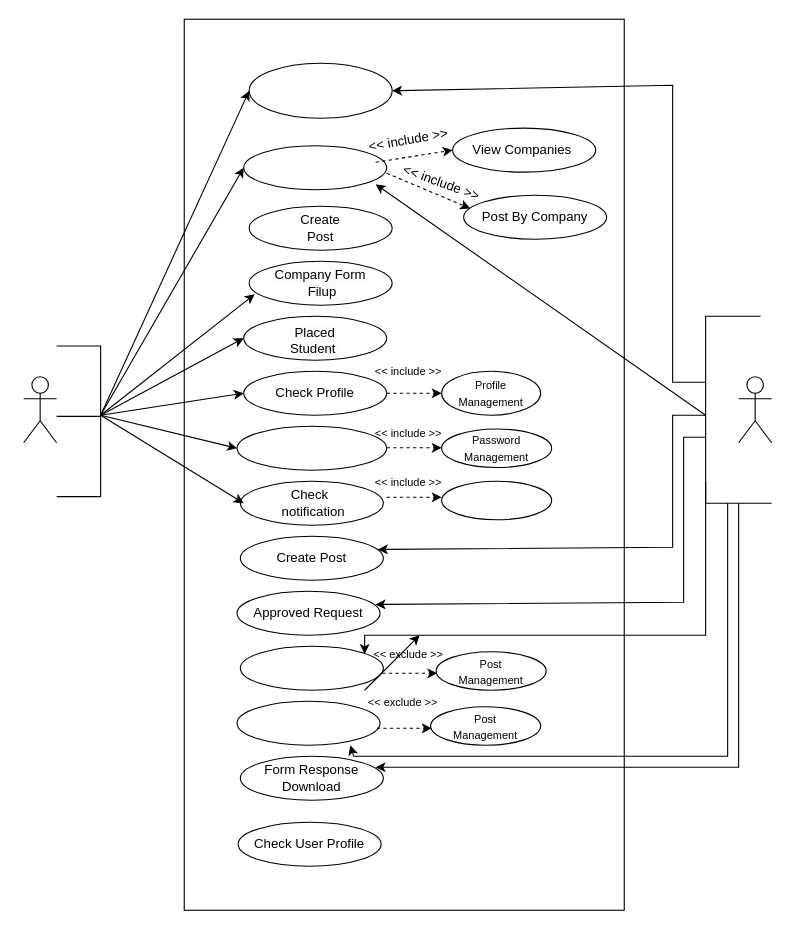
Image size: 800x930. Some labels were removed from this diagram. The centre of each missing label's shape, as x and y in pixels:
"ADMIN" belongs at point 755,409.
"Delete Post" belongs at point 308,722.
"Edit Post" belongs at point 311,667.
"Forgot Password" belongs at point 311,447.
"Login" belongs at point 315,167.
"Notification Manag ement" belongs at point 496,500.
"Registration" belongs at point 320,90.
"USER" belongs at point 40,409.
